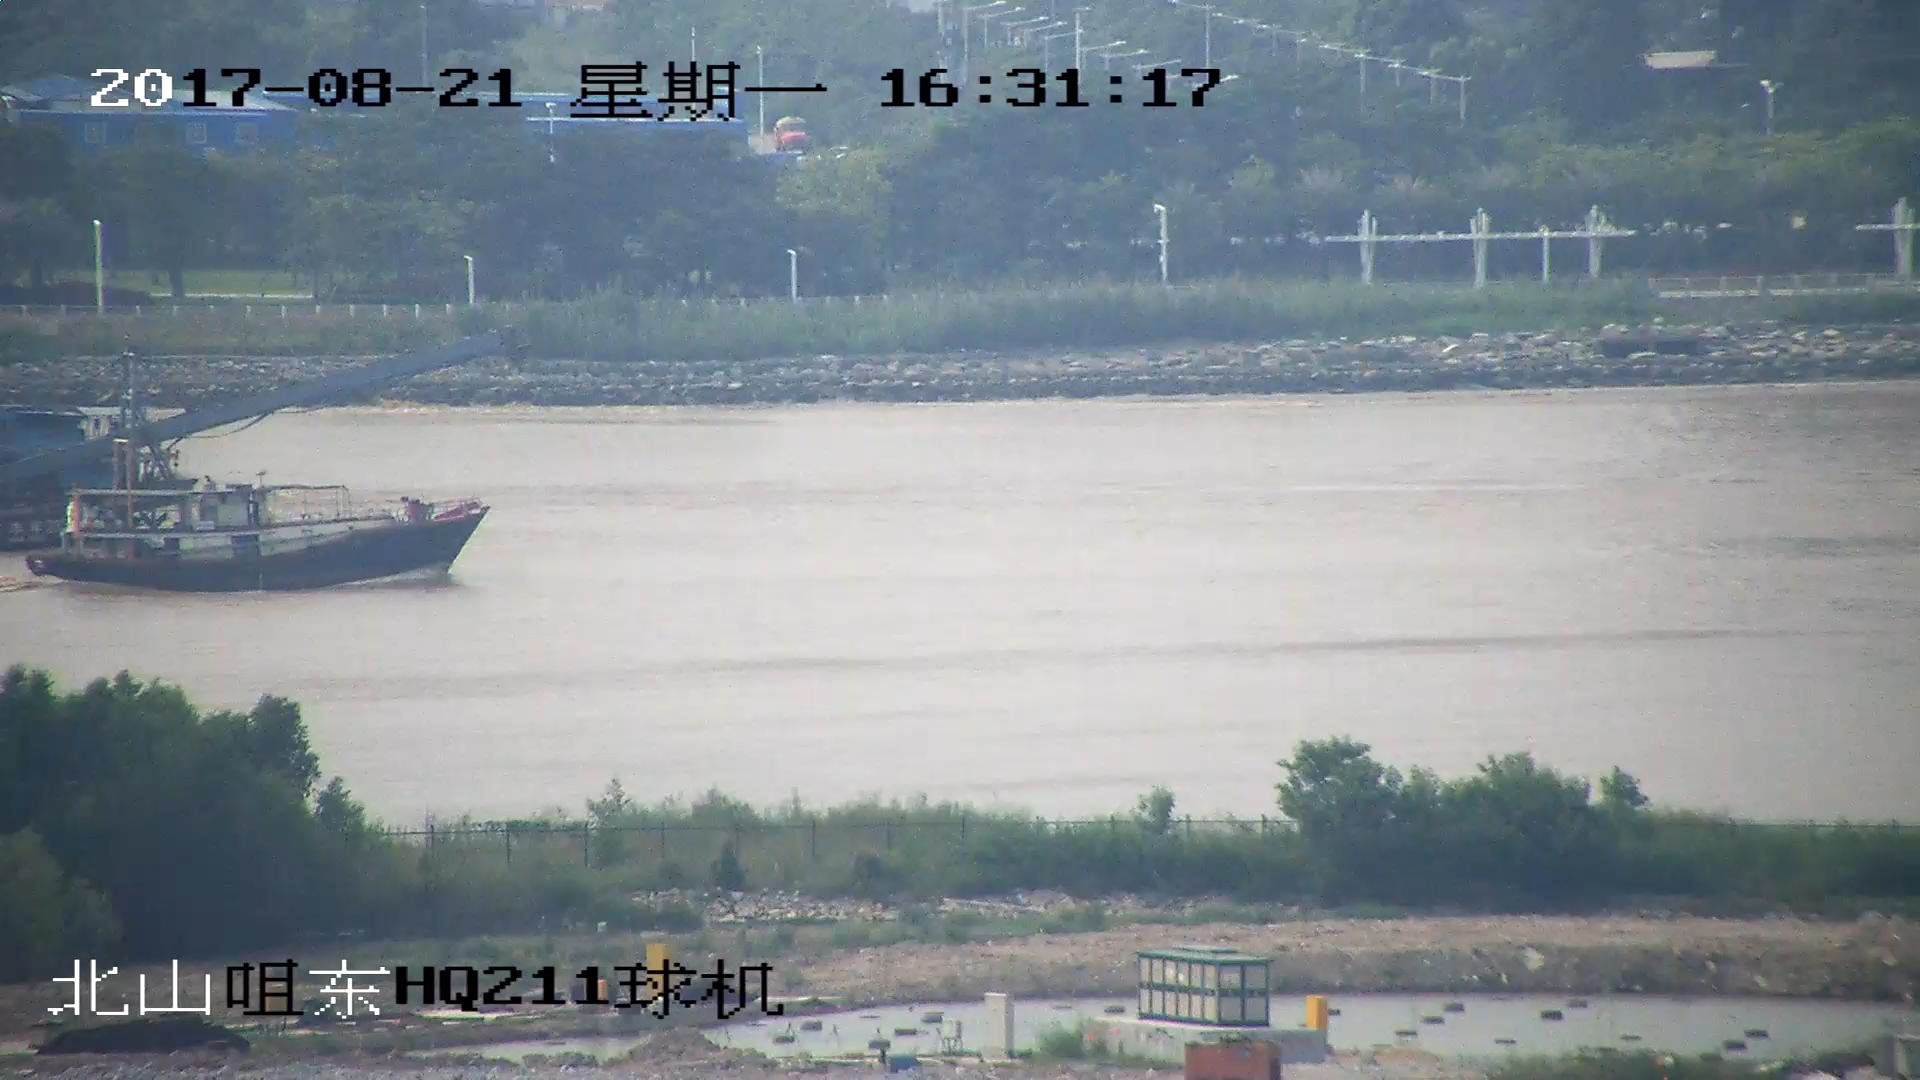fishing boat: (23, 441, 491, 595)
ore carrier: (1, 335, 519, 560)
